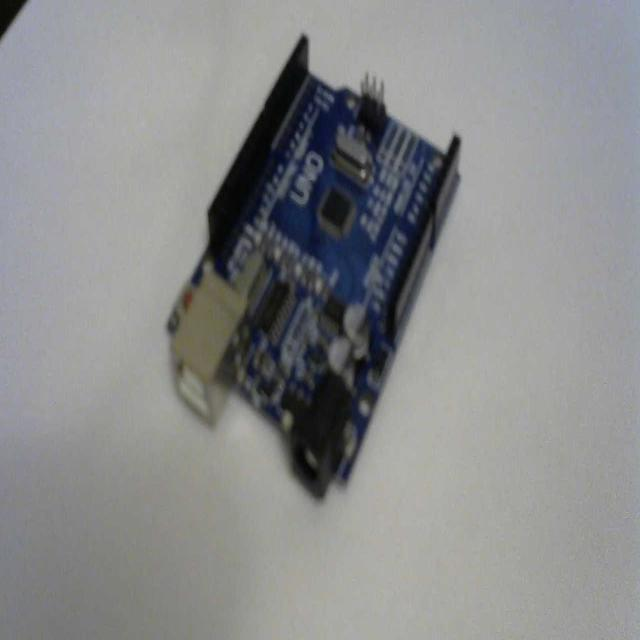arduino: (165, 31, 466, 508)
